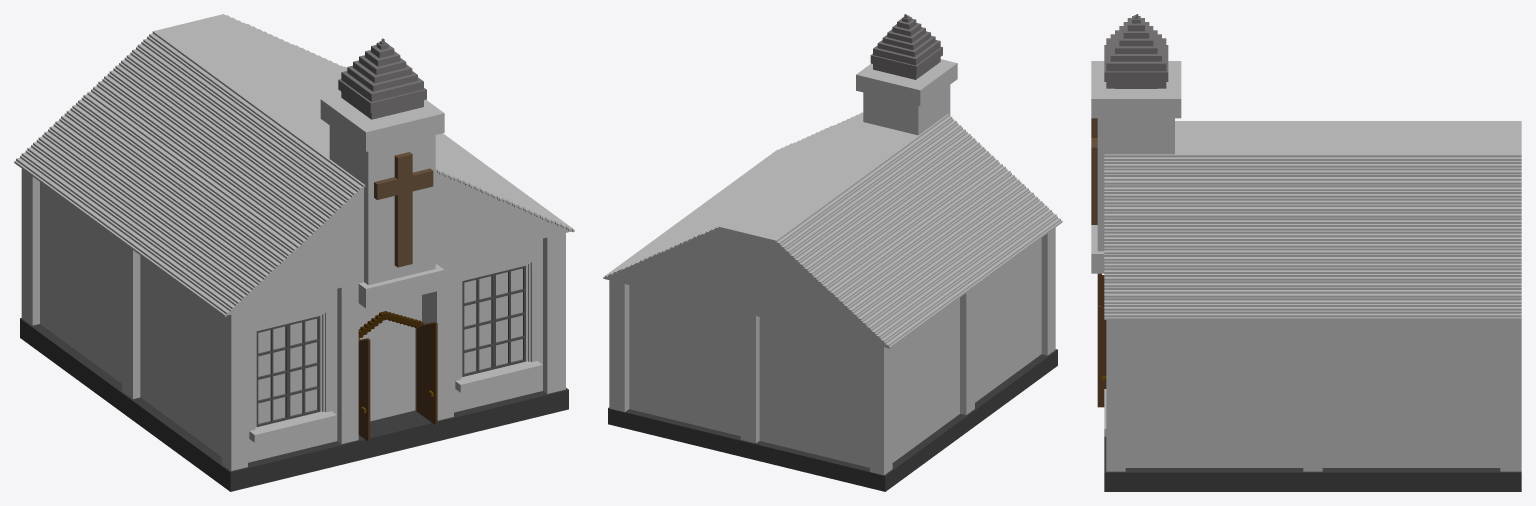
Rendered from Igreja Ext 1.obj.
3 views of the same model, side by side, from view 1: azimuth 30°, elevation 25°; view 2: azimuth 150°, elevation 25°; view 3: azimuth 270°, elevation 25° (orthographic). The views are drawn at different scales.
Size of the model in its own units: 18.7 by 20.4 by 20.1.
Materials: 1 (1 with a texture image).
